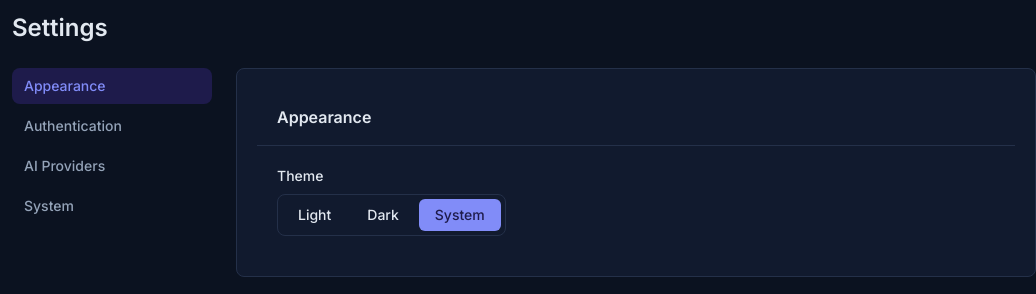
Settings page › non-admin sees "Administrator access required" and no LDAP fields
Expected: the button "Appearance" is shown, [12, 68, 212, 104]
Note: Navigate to Authentication
Click the button "Authentication" at (112, 126), box [12, 108, 212, 144]
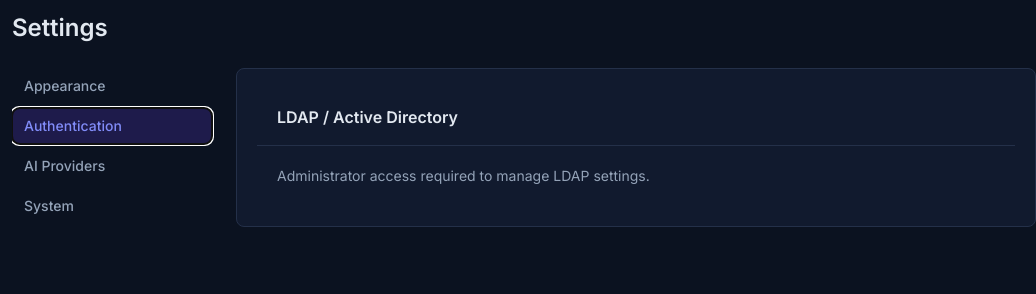
Now the text "Administrator access required to manage LDAP settings." is shown, box [277, 167, 650, 184]
